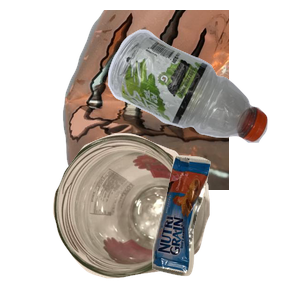glass: (50, 131, 252, 300)
metal: (60, 10, 300, 190)
plastic: (105, 27, 300, 162)
trash: (149, 152, 300, 300)
